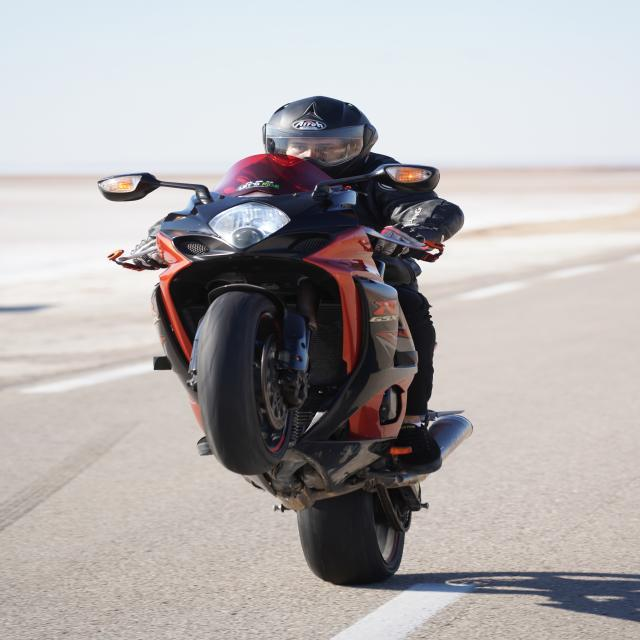Wheeling: (136, 87, 452, 584)
